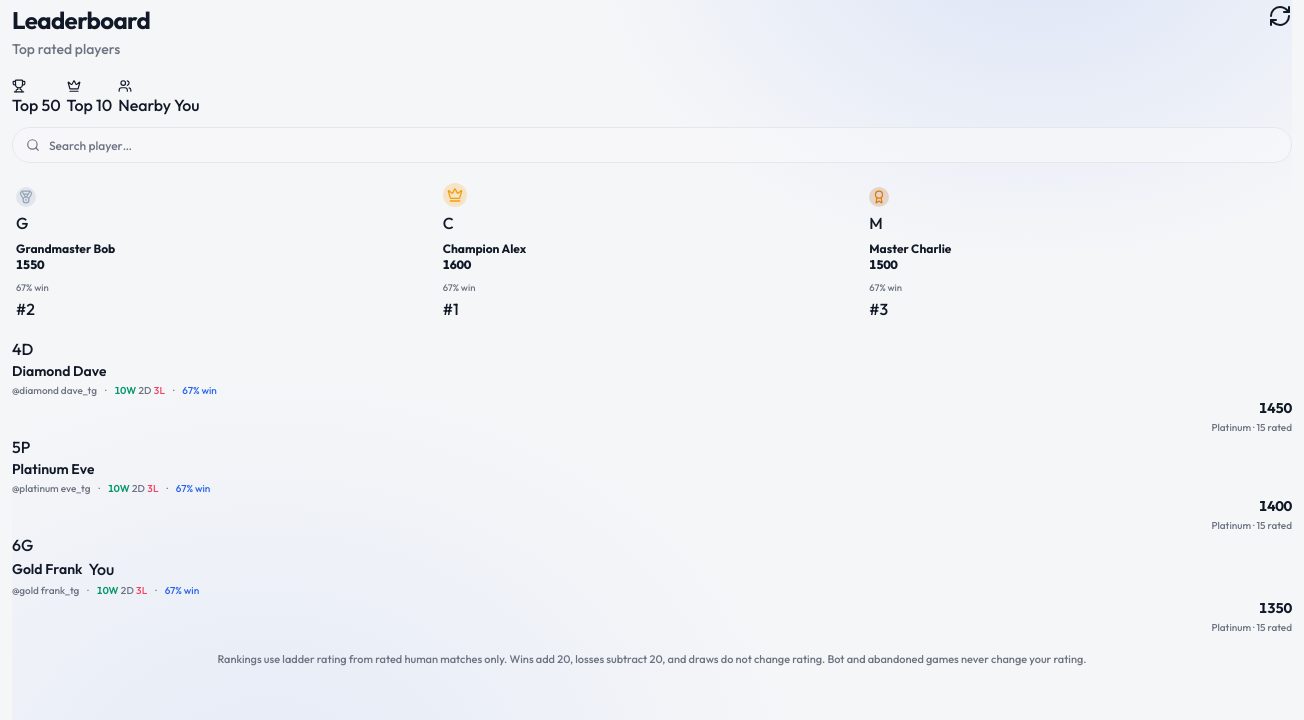
LeaderboardScreen › renders empty state when search returns no results
Expected: the text "Champion Alex" is shown, 443,241 -> 526,256
Type "NonexistentPlayer" into the field labelled "Search player…" at (652, 145), box 12,127 -> 1292,163
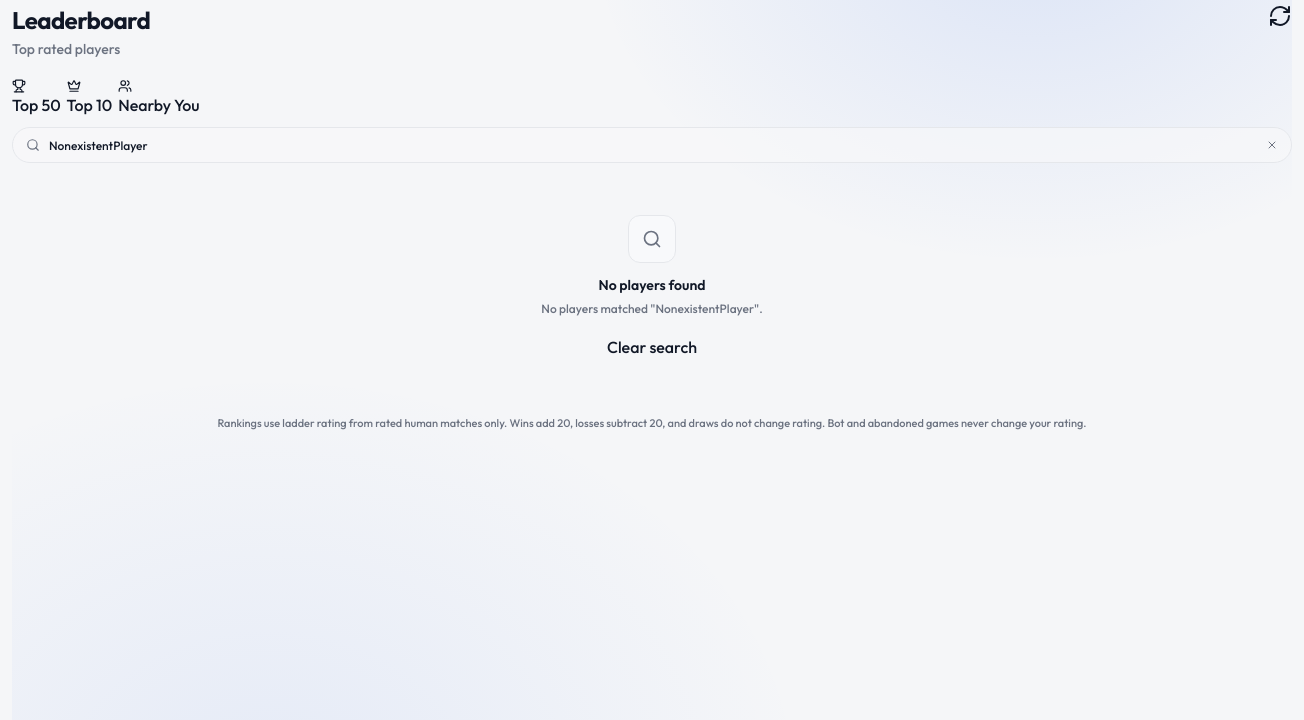
Expected: the text "No players found" is shown, 598,275 -> 706,295
Expected: the text "No players matched \"NonexistentPlayer\"." is shown, 541,299 -> 763,319
